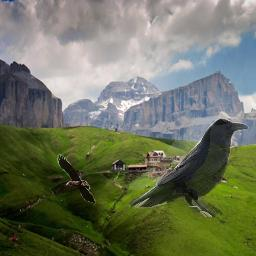Crow: (129, 118, 249, 217), (57, 154, 96, 204)
